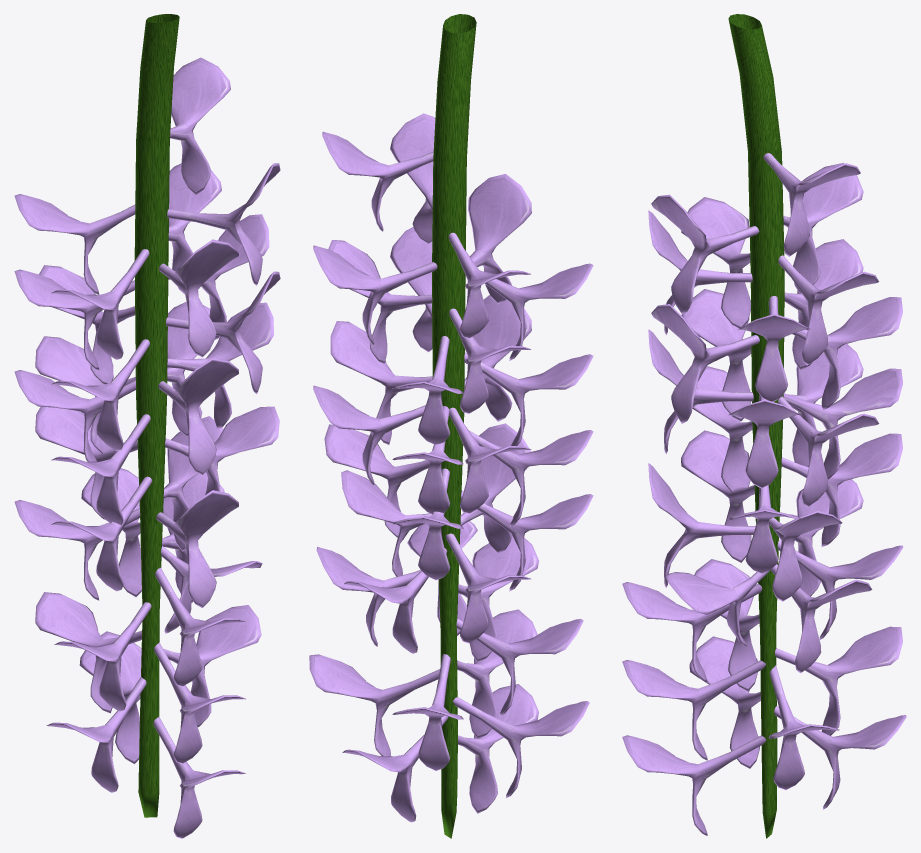
The model's file is wisteriaflower2.fbx.
The picture shows the model from 3 angles, left to right: view 1: azimuth 30°, elevation 25°; view 2: azimuth 150°, elevation 25°; view 3: azimuth 270°, elevation 25°; orthographic projection.
Parts seen in each view (by area): view 1: stemflower, flower43, flower9, flower28, flower37, flower41, flower14, flower20, flower34, flower26, flower23, flower17 (+23 smaller); view 2: stemflower, flower37, flower14, flower3, flower26, flower20, flower28, flower36, flower4, flower38, flower40, flower5 (+23 smaller); view 3: stemflower, flower35, flower41, flower23, flower18, flower29, flower33, flower17, flower34, flower3, flower24, flower4 (+23 smaller).
Boxes of the visible parts, left/top/right/bottom form: stemflower: left=134, top=14, right=179, bottom=817; flower43: left=170, top=57, right=230, bottom=195; flower9: left=156, top=490, right=238, bottom=607; flower28: left=158, top=357, right=238, bottom=475; flower37: left=159, top=239, right=238, bottom=357; flower41: left=35, top=592, right=141, bottom=713; flower14: left=163, top=605, right=261, bottom=726; flower20: left=165, top=406, right=279, bottom=494; flower34: left=14, top=194, right=135, bottom=294; flower26: left=167, top=302, right=273, bottom=429; flower23: left=35, top=336, right=135, bottom=453; flower17: left=35, top=407, right=137, bottom=519; stemflower: left=432, top=14, right=476, bottom=838; flower37: left=468, top=174, right=531, bottom=304; flower14: left=309, top=654, right=439, bottom=756; flower3: left=458, top=684, right=538, bottom=813; flower26: left=330, top=321, right=432, bottom=444; flower20: left=324, top=424, right=428, bottom=539; flower28: left=464, top=295, right=531, bottom=421; flower36: left=390, top=113, right=435, bottom=244; flower4: left=457, top=609, right=537, bottom=738; flower38: left=313, top=245, right=437, bottom=344; flower40: left=452, top=697, right=589, bottom=797; flower5: left=458, top=536, right=538, bottom=662; stemflower: left=728, top=14, right=784, bottom=838; flower35: left=681, top=197, right=750, bottom=328; flower41: left=775, top=626, right=902, bottom=735; flower23: left=783, top=368, right=902, bottom=479; flower18: left=681, top=430, right=754, bottom=562; flower29: left=681, top=289, right=751, bottom=421; flower33: left=792, top=297, right=902, bottom=409; flower17: left=781, top=433, right=902, bottom=546; flower34: left=783, top=163, right=863, bottom=293; flower3: left=622, top=735, right=766, bottom=835; flower24: left=651, top=304, right=759, bottom=423; flower4: left=622, top=660, right=765, bottom=760.
Size of the model in its own units: 0.3211 by 1.04 by 0.3283.
